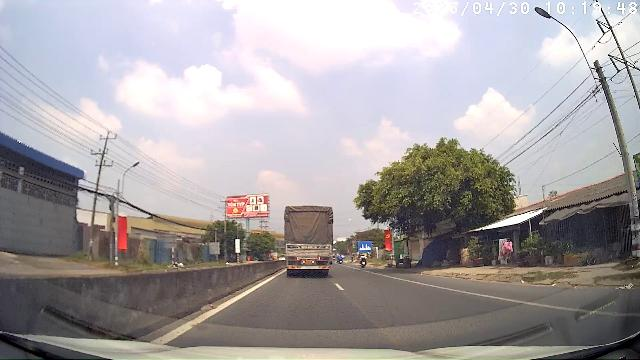420-bat-dau-khu-dong-dan-cu: (358, 241, 372, 251)
